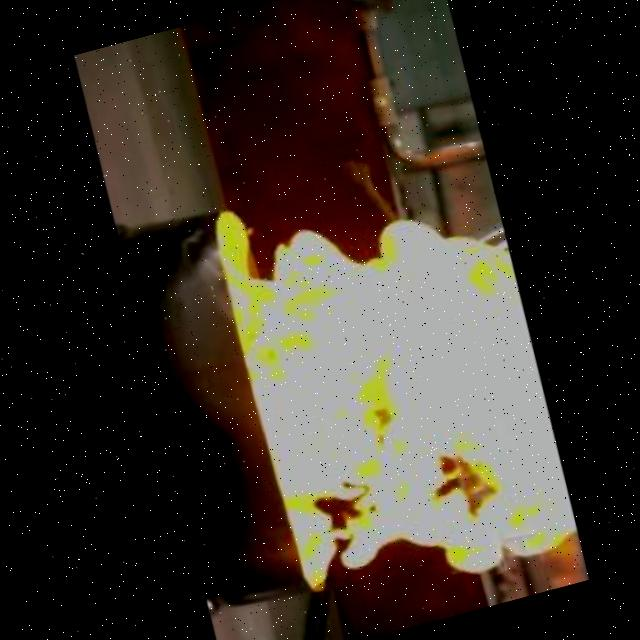fire: (198, 152, 593, 624)
